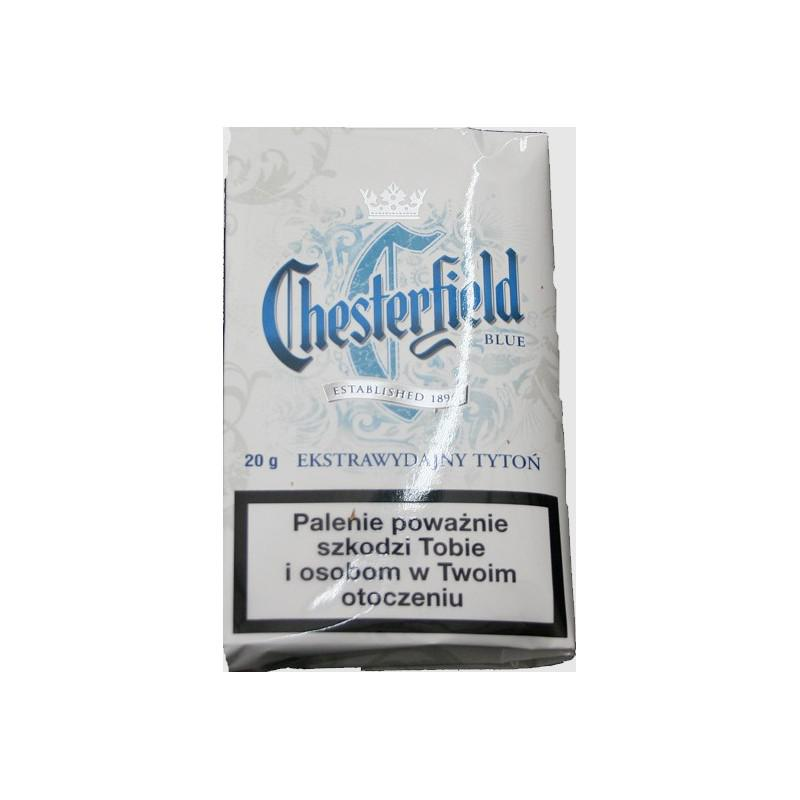chesterfield_blue: (230, 127, 554, 645)
